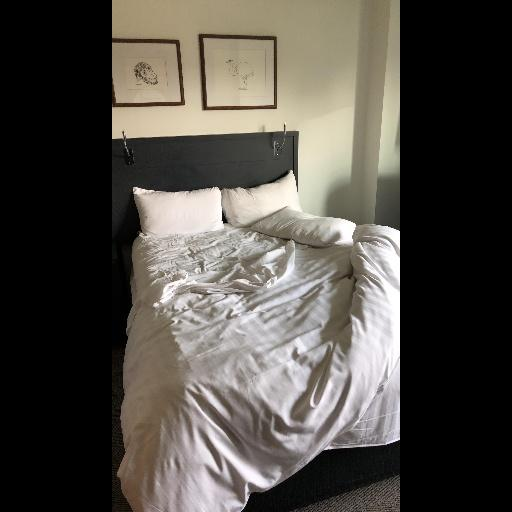Disorganized_pillow: (130, 171, 305, 237)
messy_bed: (118, 130, 404, 511)
